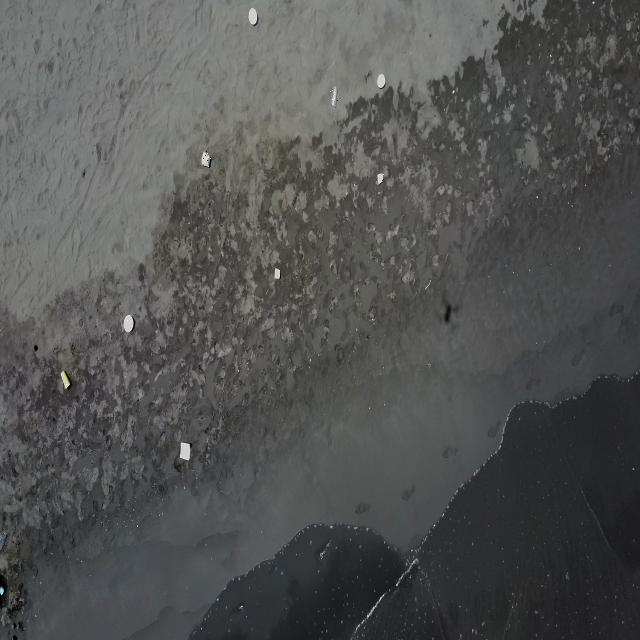take-away-containers: (179, 441, 191, 462), (123, 314, 134, 334), (248, 7, 257, 26), (201, 151, 211, 168), (377, 72, 386, 90), (272, 267, 280, 281), (376, 172, 384, 185)
takeaway-cup: (60, 369, 71, 392), (330, 87, 338, 109)
